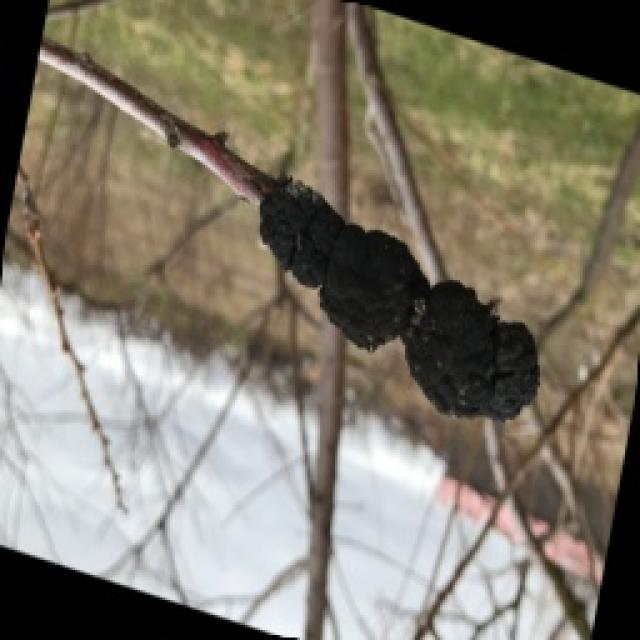Black_knot: (255, 172, 540, 422), (398, 278, 540, 420), (315, 220, 430, 350), (255, 172, 345, 288)
